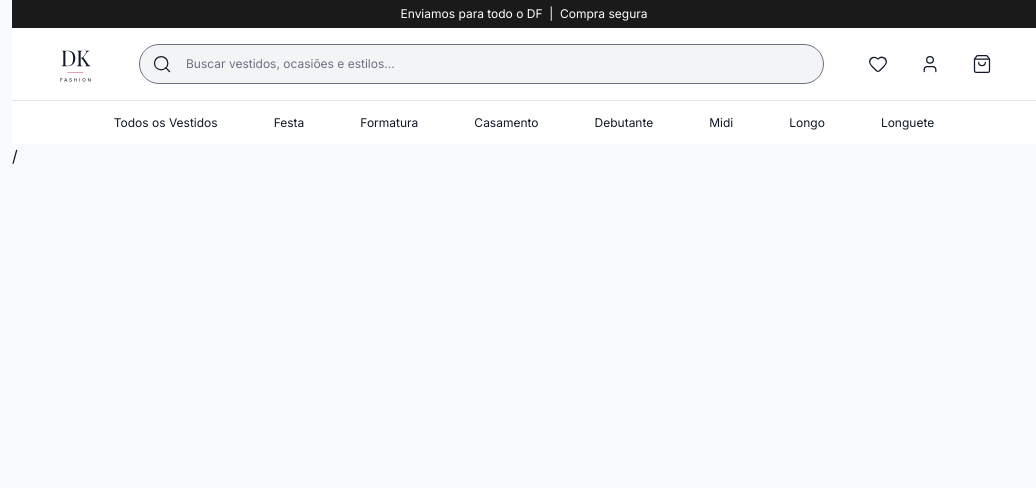
Test: Header › mostra os módulos internos para {"id":"333","name":"Super DK","email":"super@dk.com","role":"superadmin"}
Click the button named "Minha conta": (930,64) [908,42,952,86]
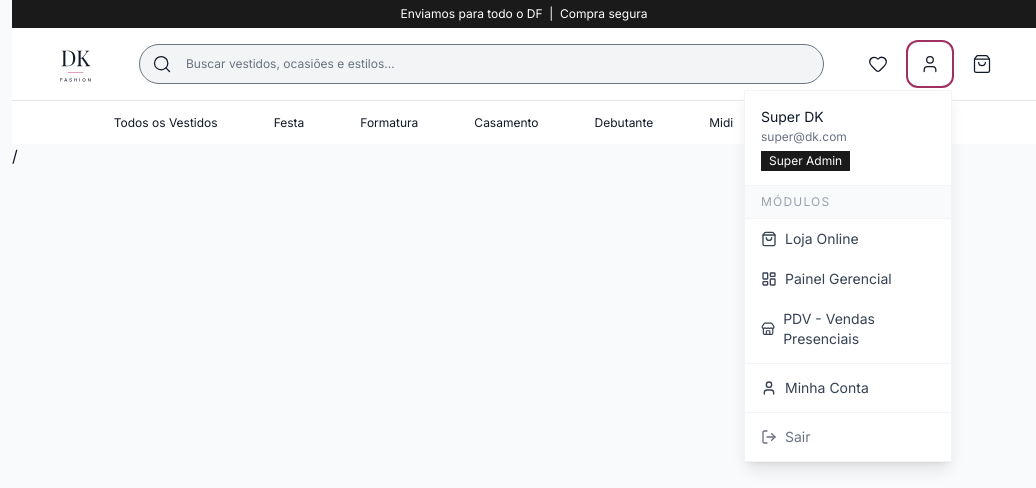
Check: the text "Super Admin" is shown, box [761,151,850,171]
Check: the link "PDV - Vendas Presenciais" is shown, box [761,310,875,347]
